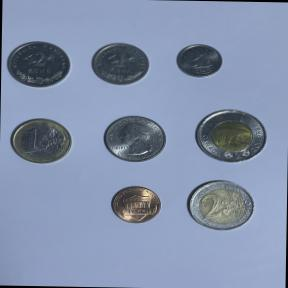1 Euro: (7, 114, 75, 166)
2 Euro: (185, 178, 259, 234)
Canda-10cent-: (172, 42, 226, 80)
Canda-2Dollar-: (191, 107, 270, 165)
Croatia-2Kune-: (3, 38, 74, 91)
US-1cent-: (108, 184, 164, 226)
US-25cent-: (100, 112, 169, 164)
